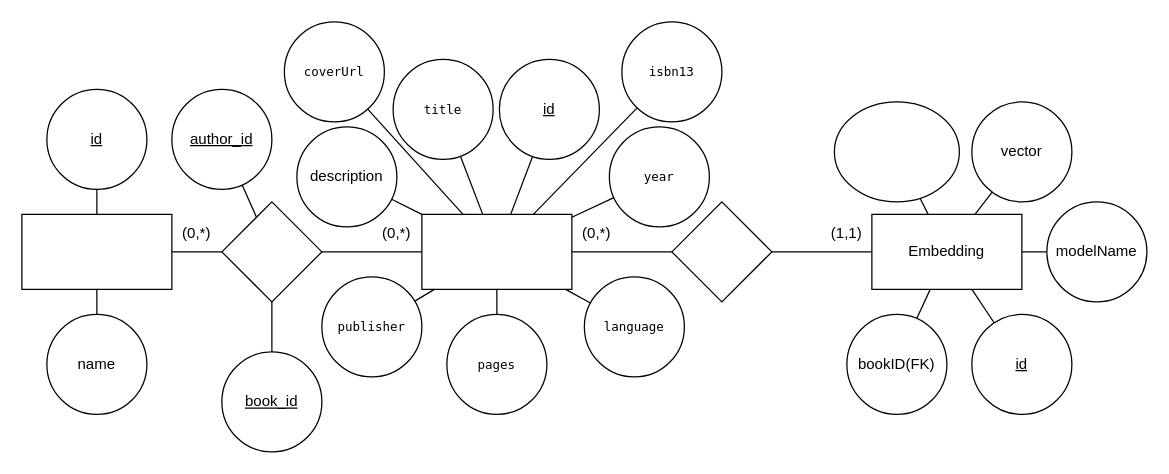
This 1169x474 diagram has some shape labels left out. The shapes that lost their labels are listed below. From the top down, each one's centre as x and y in pixels, then its label:
[896,151]: embeddingType
[96,251]: Author
[271,251]: BookAuthor
[496,251]: Book
[721,251]: hat
